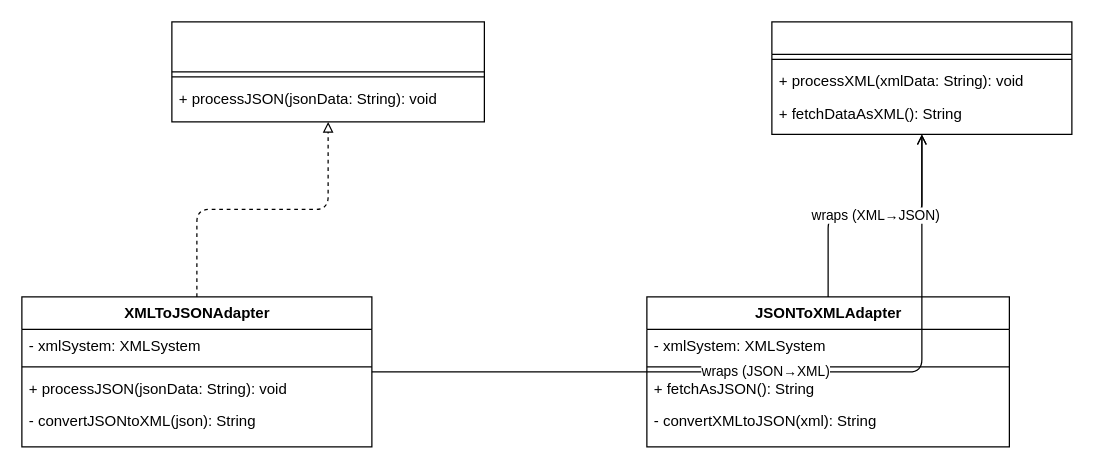
Image size: 1094x469. Some labels were removed from this diagram. The box of each missing label's shape, as (x1, y1, x2, y2) in pixels:
XMLSystem: (771, 21, 1072, 134)
«interface» JSONProcessor: (171, 21, 484, 122)
